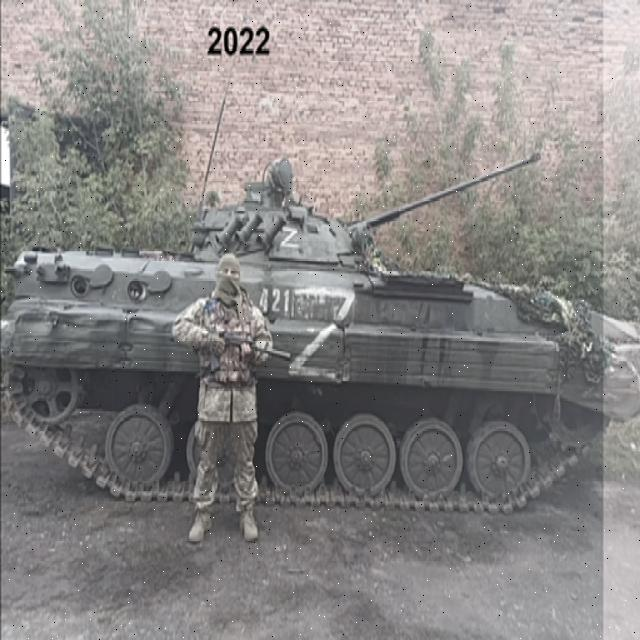APC-IFV: (2, 140, 638, 511)
